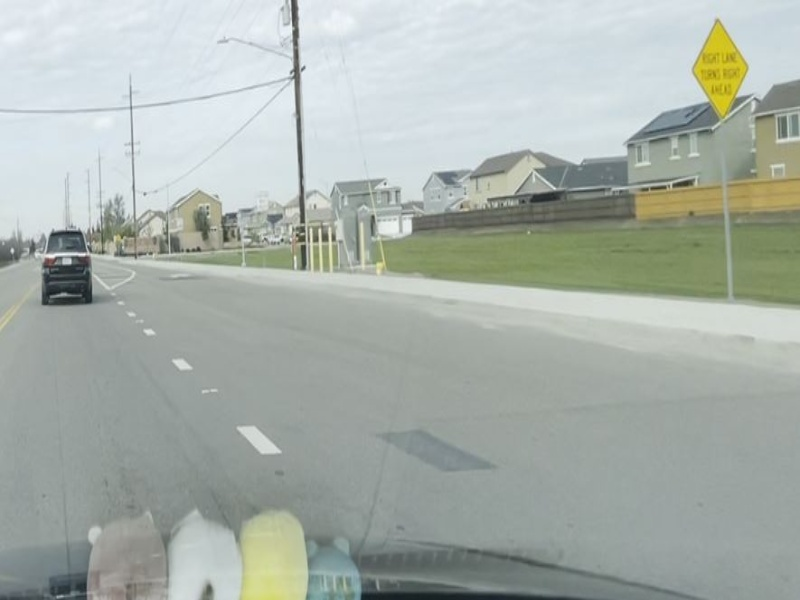merge sign: (688, 18, 750, 120)
